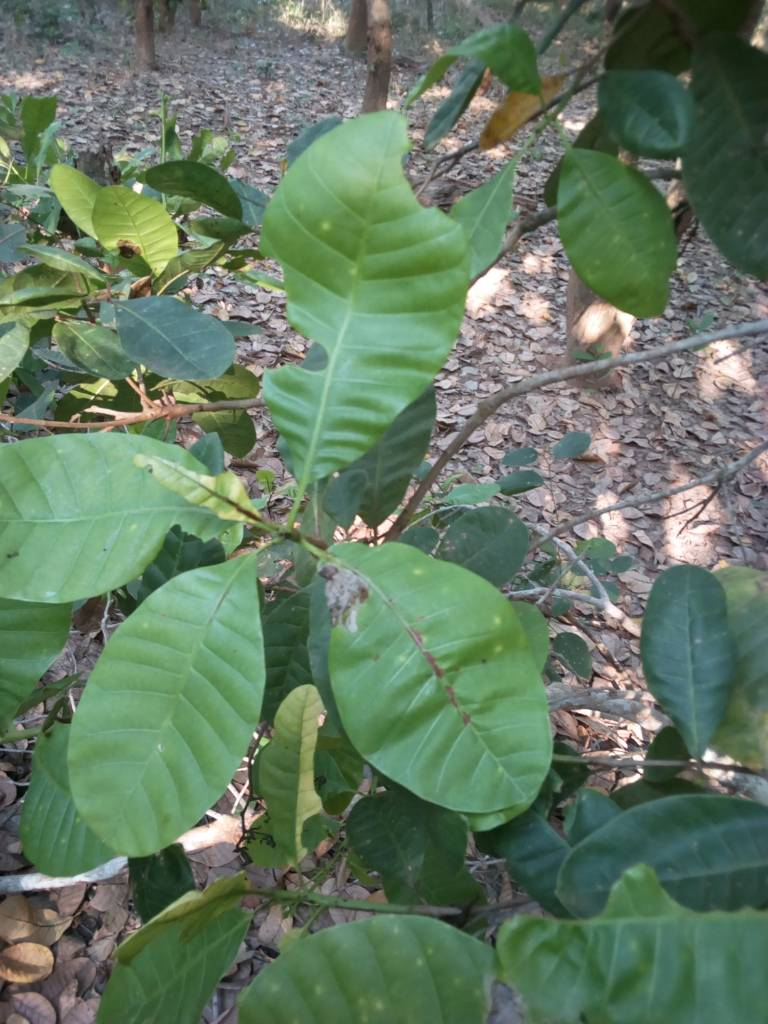Dysdercus wolkerii: (307, 528, 569, 855)
